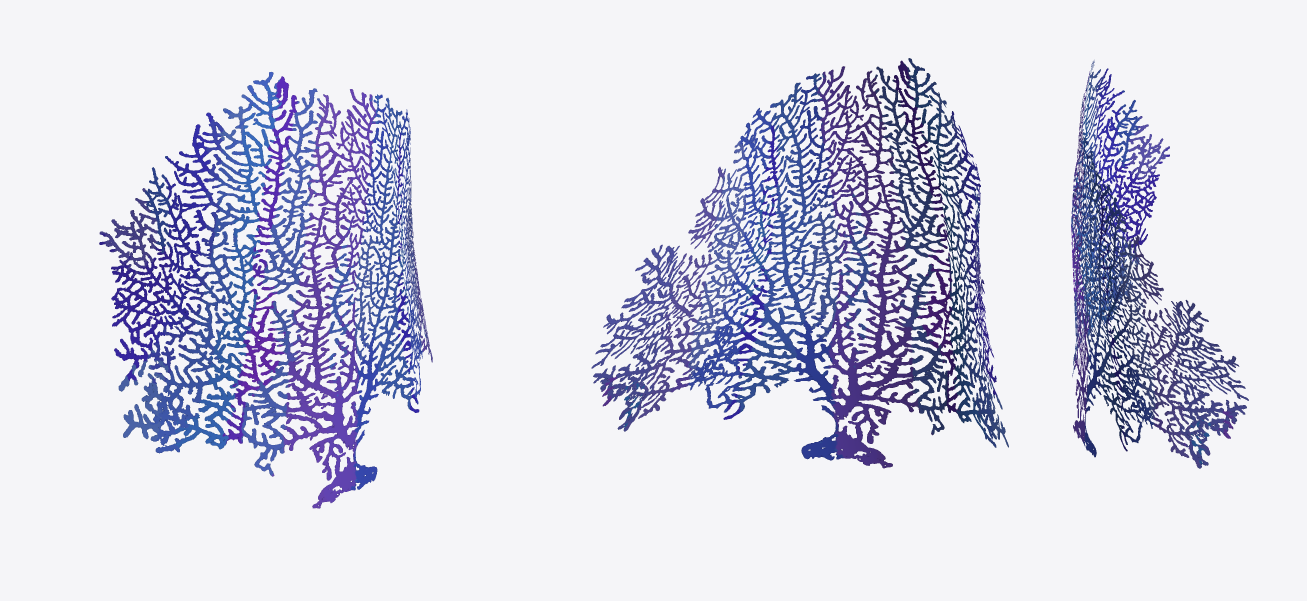
File: 24-SeaFan.fbx
3 views of the same model, side by side, from view 1: azimuth 30°, elevation 25°; view 2: azimuth 150°, elevation 25°; view 3: azimuth 270°, elevation 25° (orthographic). The views are drawn at different scales.
Visible parts, largest first — view 1: 24-SeaFan_LOD00; view 2: 24-SeaFan_LOD00; view 3: 24-SeaFan_LOD00.
Part boxes in pixels (x1,y1,x2,y2): 24-SeaFan_LOD00: (99, 72, 432, 508); 24-SeaFan_LOD00: (591, 58, 1008, 468); 24-SeaFan_LOD00: (1071, 60, 1248, 468).
Bounding box in the file's own units: 94.61 × 96.48 × 45.93.
